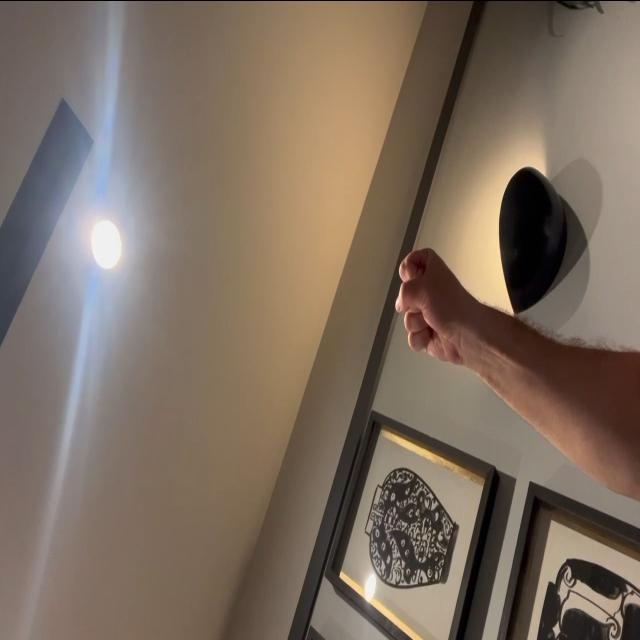Rock: (394, 244, 465, 366)
